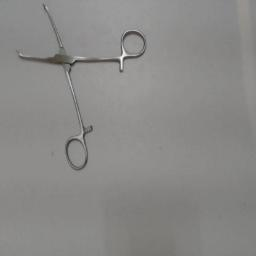Allis Tissue Forceps: (12, 0, 152, 174)
